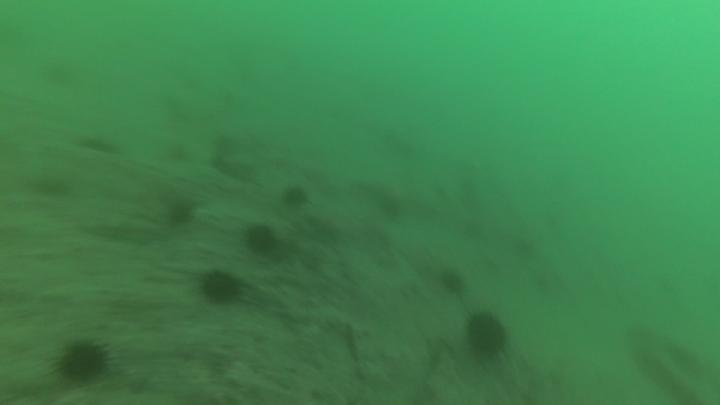echinus: (55, 337, 111, 385), (463, 309, 511, 362), (197, 267, 244, 307), (242, 221, 280, 258), (39, 56, 79, 91), (74, 131, 122, 158), (164, 197, 198, 229), (436, 266, 468, 296), (279, 183, 311, 211)
starfish: (305, 210, 344, 245)
